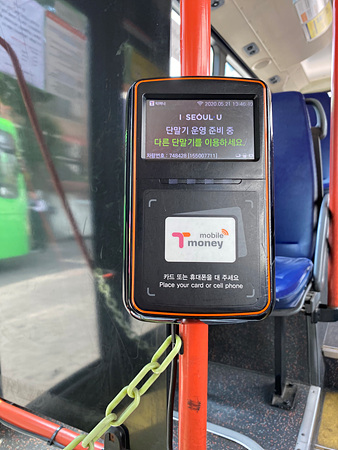terminal: (125, 81, 268, 311)
